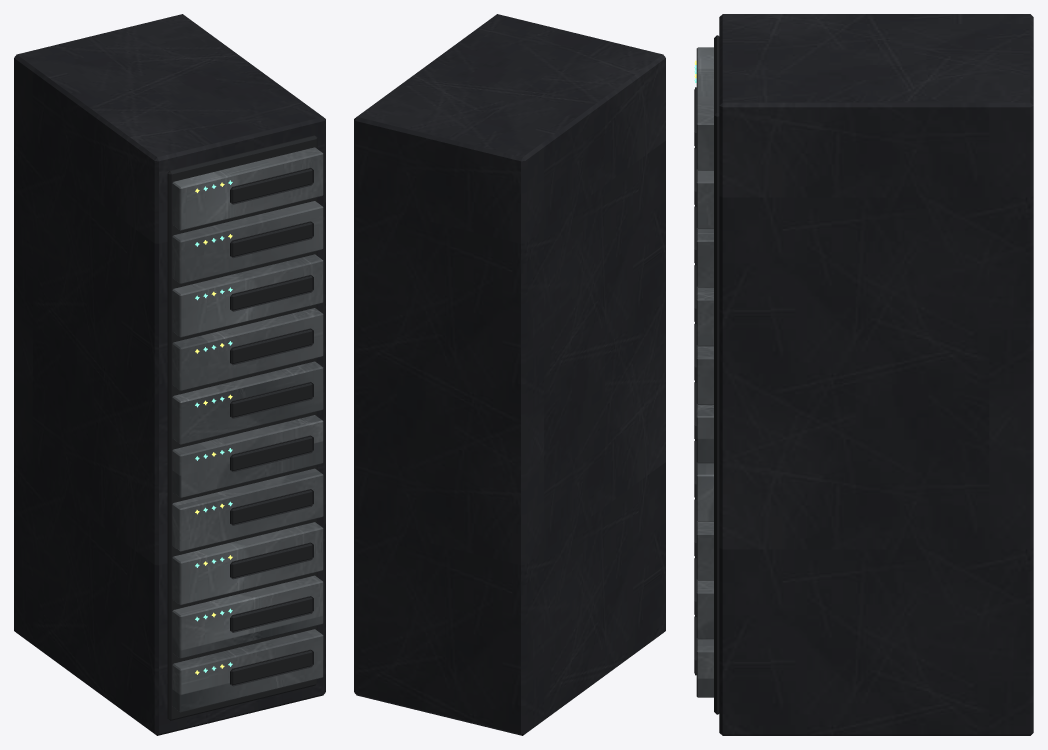
The model's file is server_rack.glb.
The picture shows the model from 3 angles, left to right: view 1: azimuth 30°, elevation 25°; view 2: azimuth 150°, elevation 25°; view 3: azimuth 270°, elevation 25°; orthographic projection. The views are drawn at different scales.
Parts seen in each view (by area): view 1: body; view 2: body; view 3: body.
Part boxes in pixels (x1=…): body: x1=14, y1=14, x2=325, y2=735; body: x1=354, y1=14, x2=665, y2=735; body: x1=694, y1=14, x2=1033, y2=735.
Size of the model in its own units: 0.62 by 2 by 0.972.
5 materials, 2 textured.
